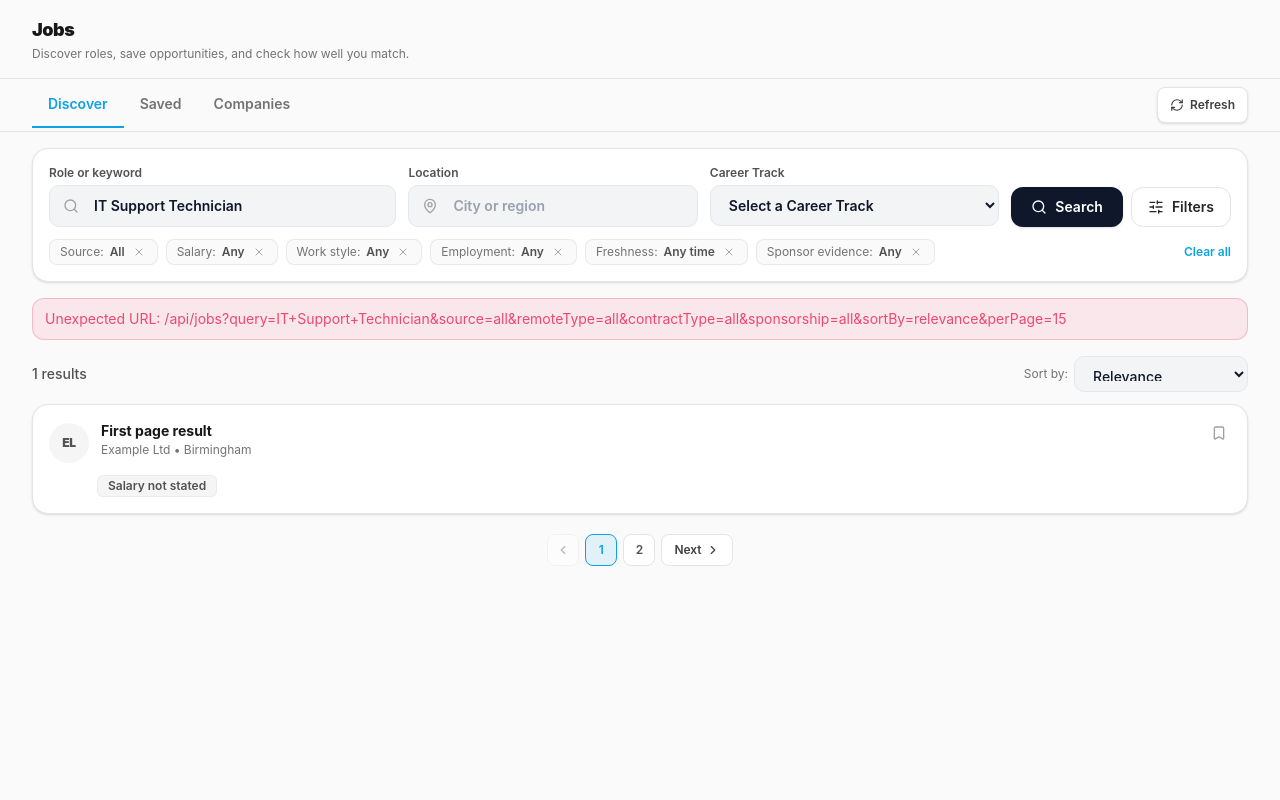
it: authenticated Job Board API wiring › traps keyboard focus in Filters and restores it on Escape
Click the button "Filters". click: click(1181, 207)
box: [1131,187,1231,227]
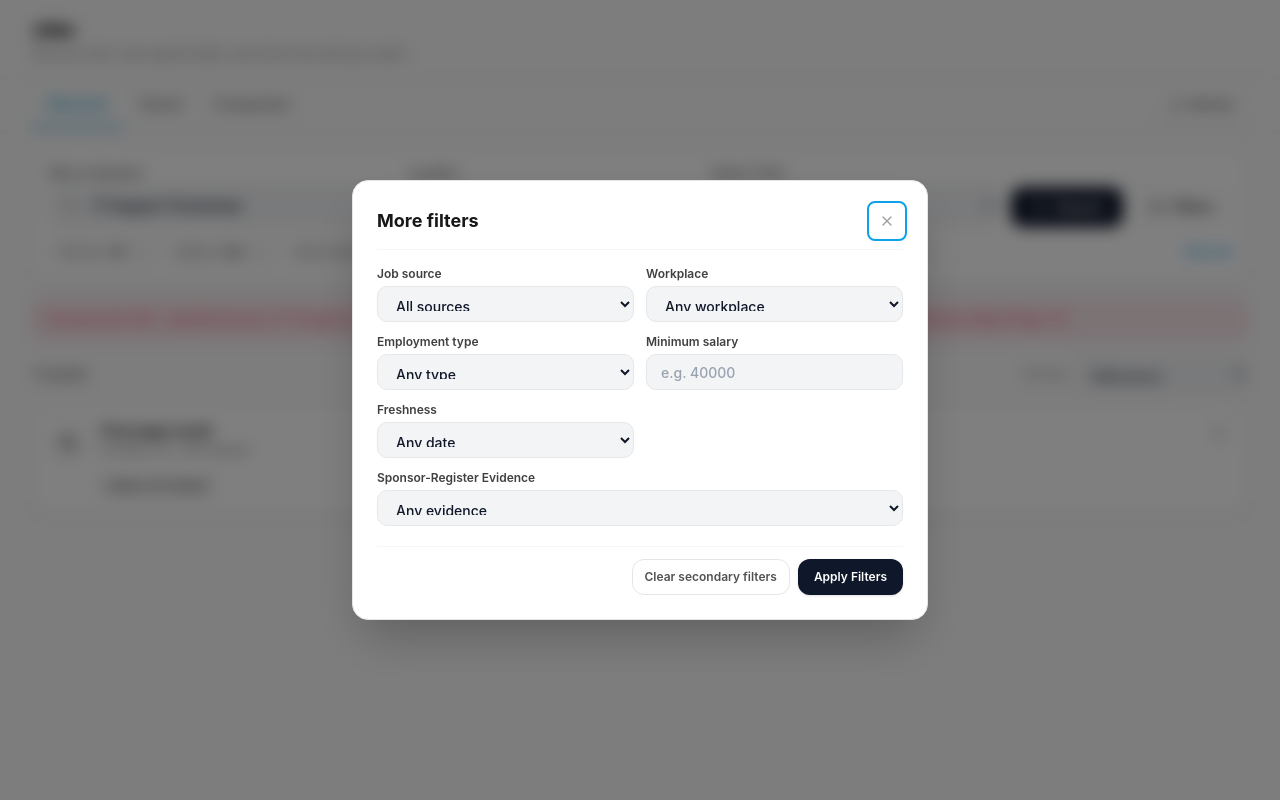
Press Escape
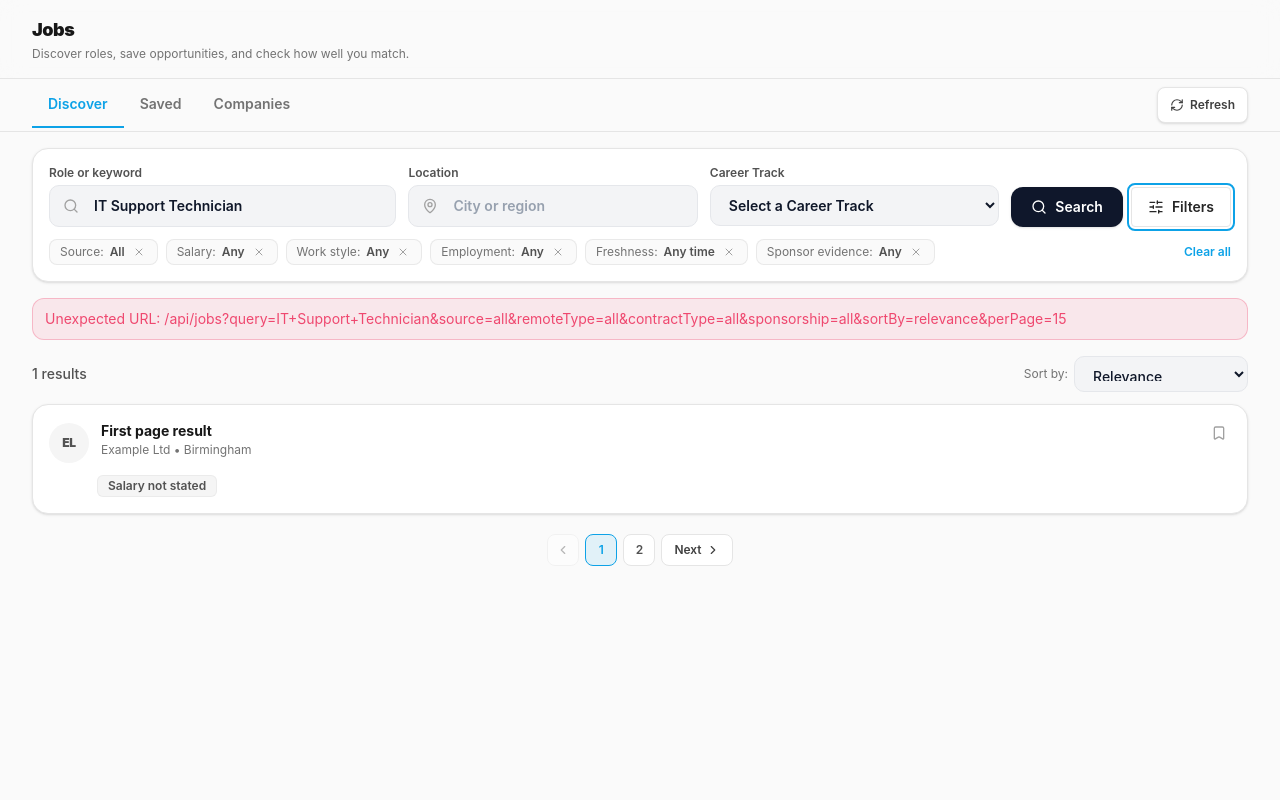
Now the heading "More filters" is gone
